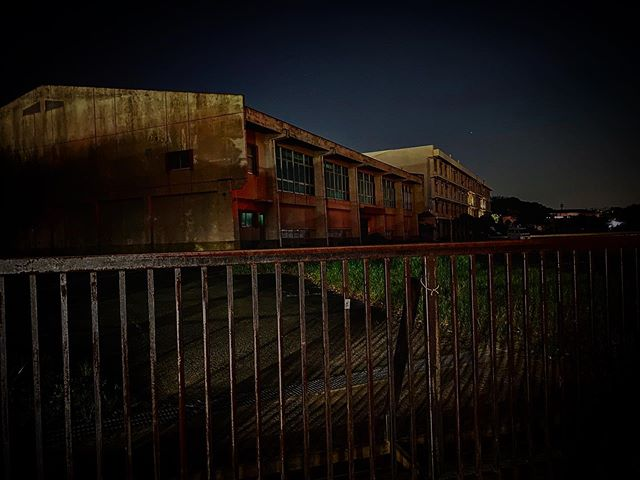building: (14, 96, 420, 244), (379, 139, 495, 239)
sky: (1, 1, 626, 197)
